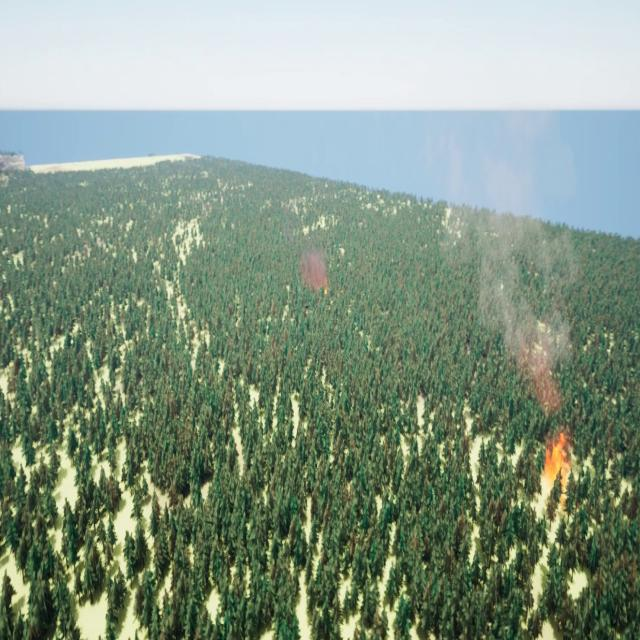fire: (540, 427, 571, 506)
smoke: (425, 109, 581, 406), (296, 245, 328, 302)
